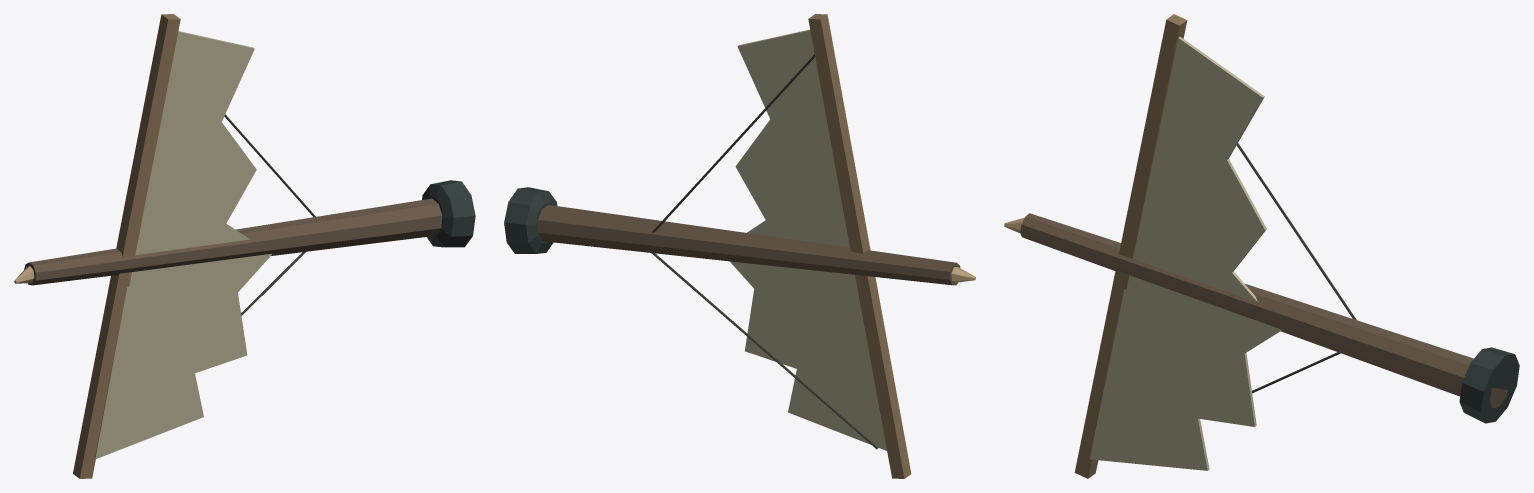
The model's file is SW_Mast_Fallen.fbx.
3 renders of one model, left to right at view 1: azimuth 30°, elevation 25°; view 2: azimuth 150°, elevation 25°; view 3: azimuth 330°, elevation 25°, orthographic. The views are drawn at different scales.
Visible parts, largest first — view 1: SW_Mast_Fallen; view 2: SW_Mast_Fallen; view 3: SW_Mast_Fallen.
Part boxes in pixels (x1,y1,x2,y2): SW_Mast_Fallen: (14,14,475,478); SW_Mast_Fallen: (504,14,975,478); SW_Mast_Fallen: (1004,14,1519,478).
Bounding box in the file's own units: 7.53 × 7.01 × 0.9511.
